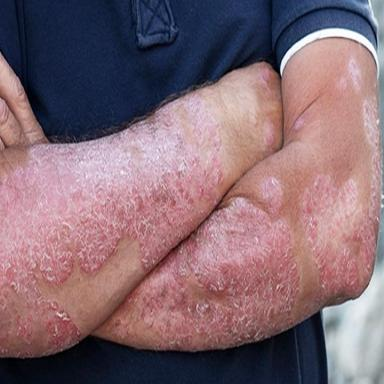Psoriasis: (0, 94, 222, 356), (140, 198, 300, 350), (301, 98, 381, 302), (260, 176, 282, 217)
